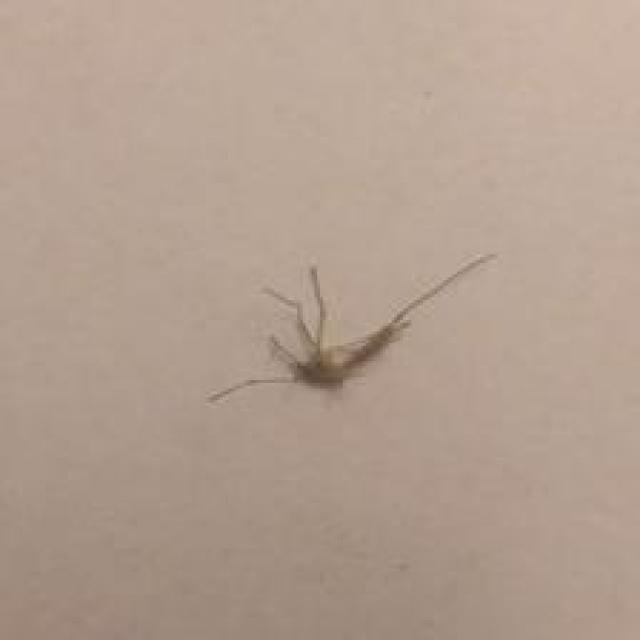Culex: (206, 250, 497, 407)
